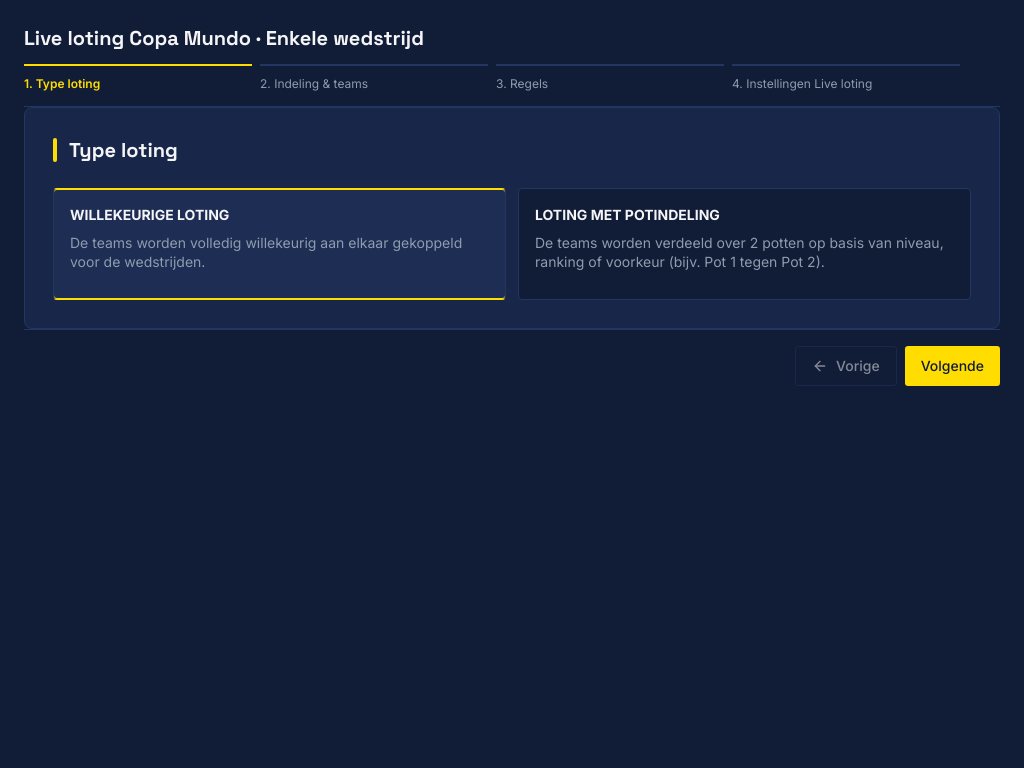
Uniform draw preparation › uses four steps for single_match with suitable methods
Expected: the button "Willekeurige loting" is shown, [53,188,506,300]
What coordinates should you click on to do the following:
click the button "Volgende"
I would click on:
 (952, 366)
Its box is [905,346,1000,386].
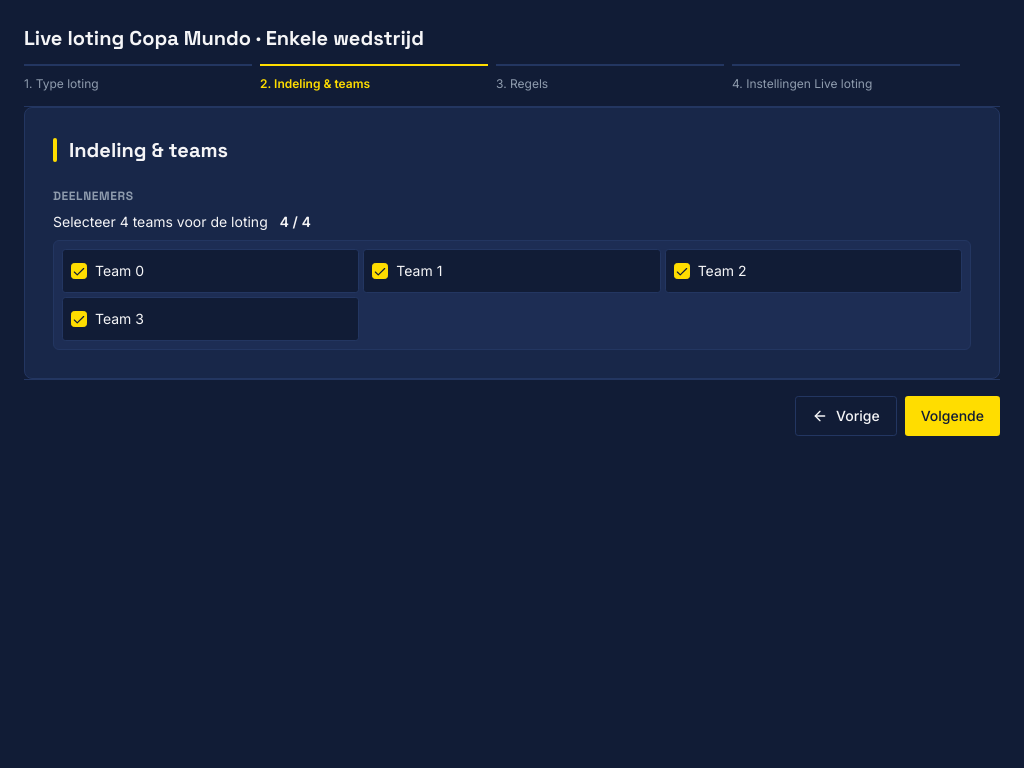
Now the heading "Indeling & teams" is shown, box [69,136,228,162]
What coordinates should you click on to do the following:
click the button "Volgende"
I would click on:
 (952, 416)
Its box is [905,396,1000,436].
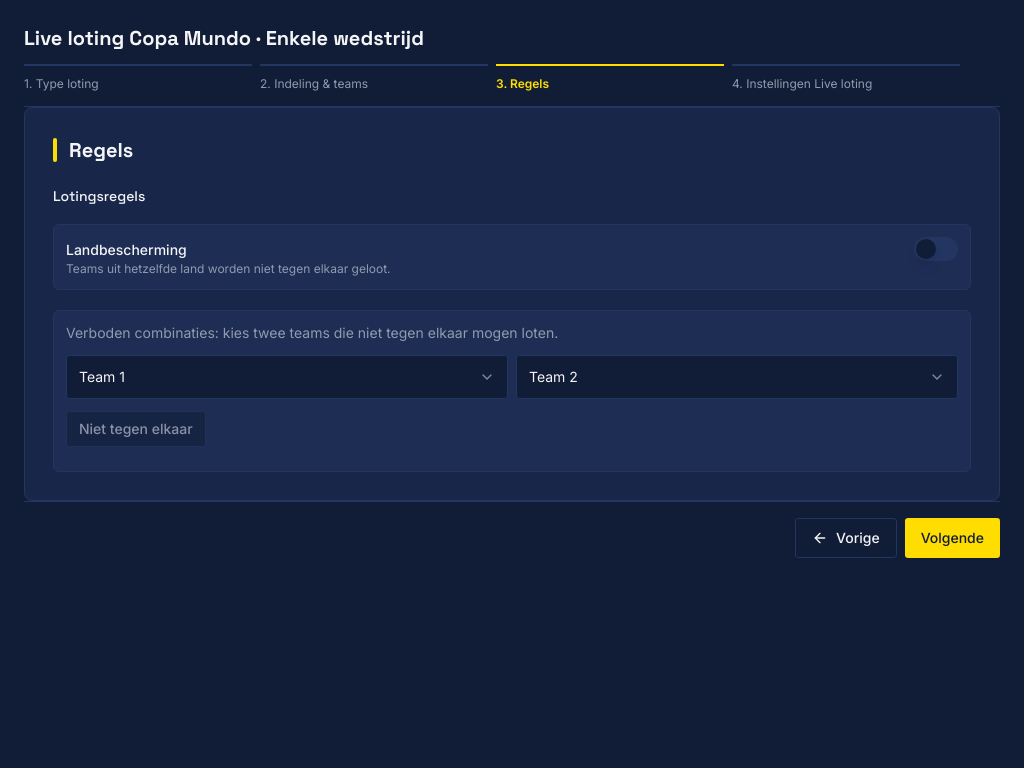
Now the heading "Regels" is shown, box [69,136,133,162]
